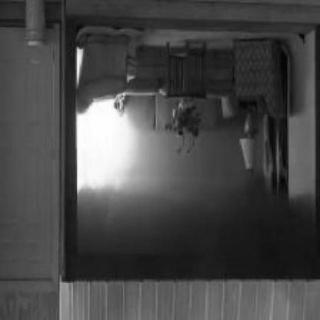Fire: (77, 99, 139, 193), (78, 48, 84, 88)
